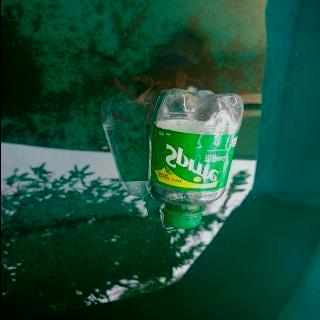bottle: (142, 85, 245, 232)
